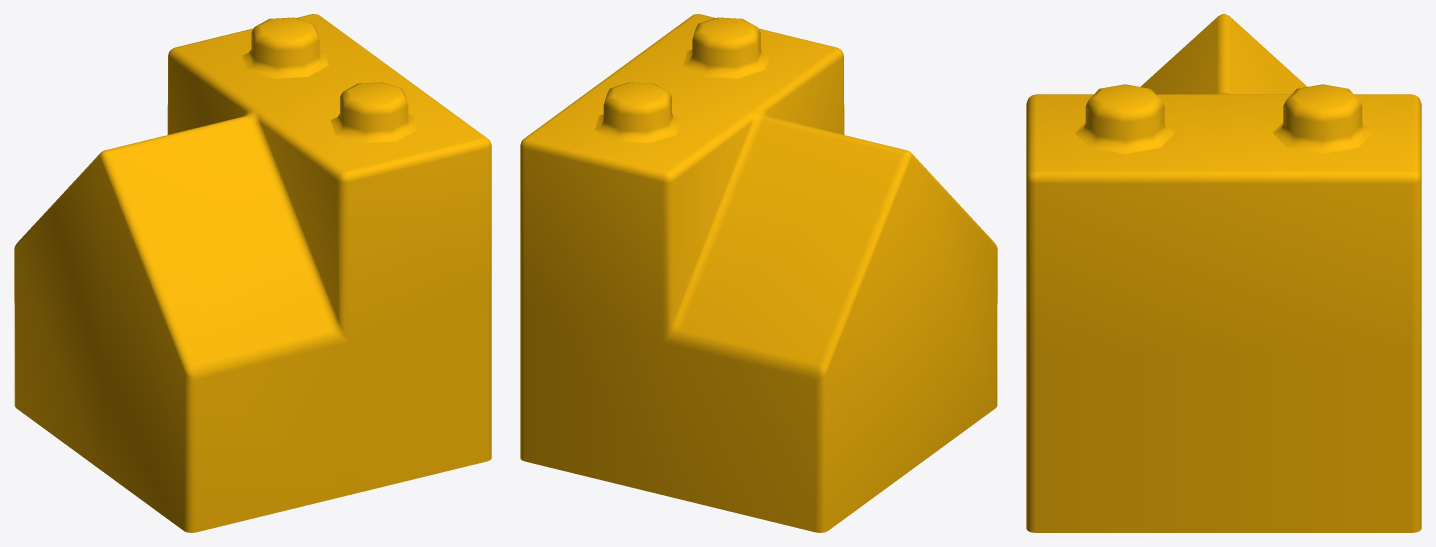
The model's file is Parallel_Bevel.fbx.
3 renders of one model, left to right at view 1: azimuth 30°, elevation 25°; view 2: azimuth 150°, elevation 25°; view 3: azimuth 270°, elevation 25°, orthographic. The views are drawn at different scales.
Visible parts, largest first — view 1: Parallel_Bevel, Knobs.031; view 2: Parallel_Bevel, Knobs.031; view 3: Parallel_Bevel, Knobs.031.
Part boxes in pixels (x1,y1,x2,y2): Parallel_Bevel: [14, 14, 491, 532]; Knobs.031: [242, 17, 417, 143]; Parallel_Bevel: [520, 14, 997, 532]; Knobs.031: [594, 17, 769, 143]; Parallel_Bevel: [1026, 14, 1421, 532]; Knobs.031: [1075, 84, 1372, 153].
Bounding box in the file's own units: 1 × 1.1 × 1.
